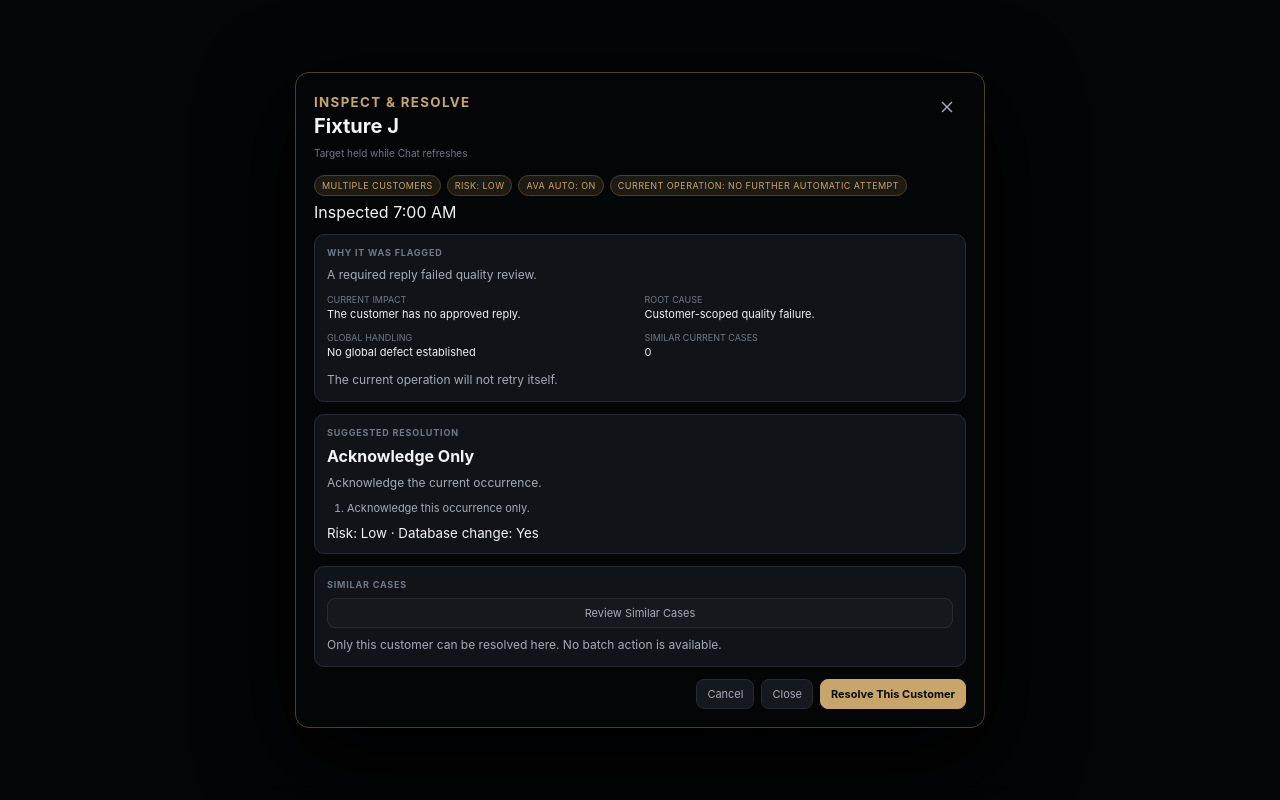
Scenario: Inspect & Resolve › limits multiple-customer work to the current target and reviews safe similar cases
This screenshot has width=1280, height=800.
Expected: the button "Resolve This Customer" is shown, [820,679,966,709]
Click the button "Review Similar Cases": (640, 613) [327,598,953,628]
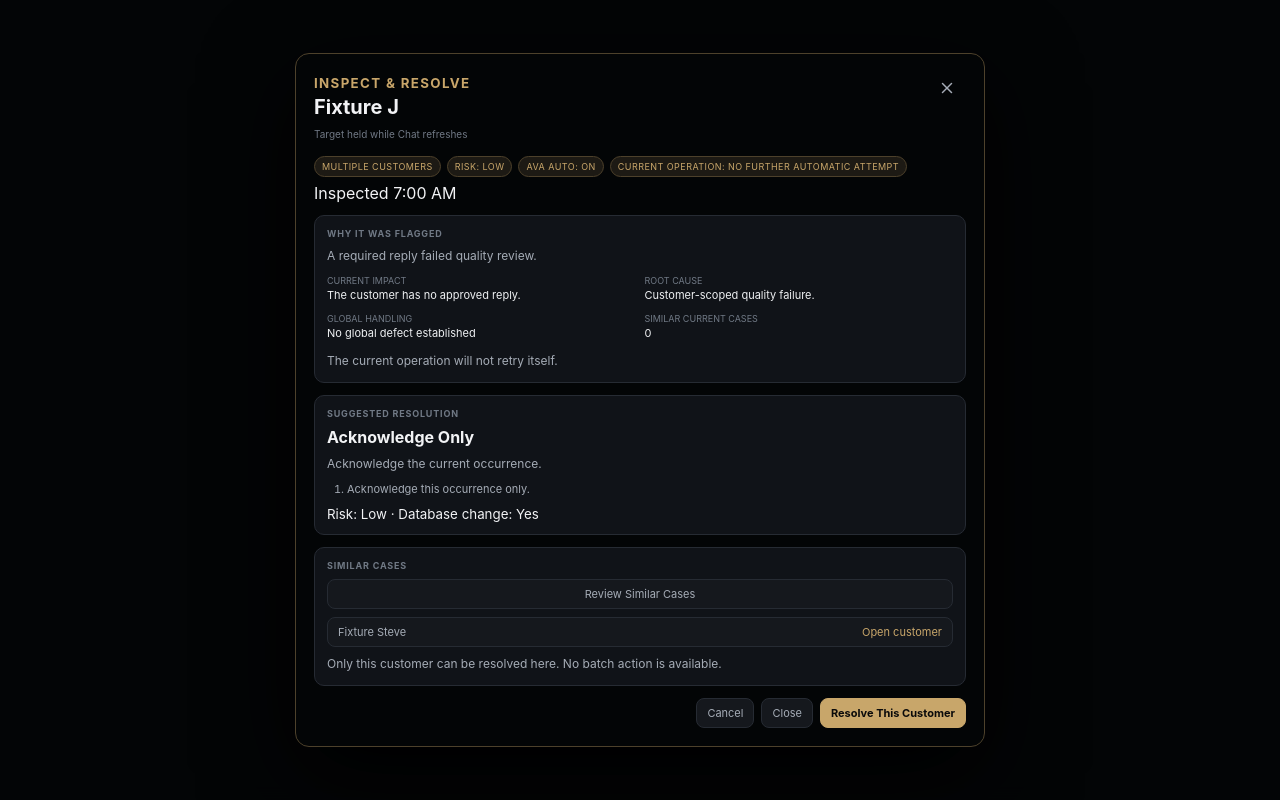
Expected: the text "No batch action" is shown, [327,656,722,671]
Expected: the button "Fixture Steve Open customer" is shown, [327,617,953,647]
